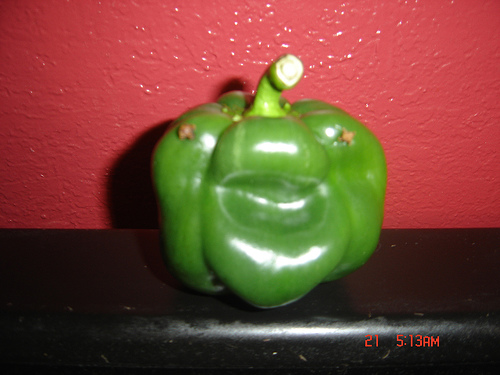capsicum: (148, 51, 389, 311)
